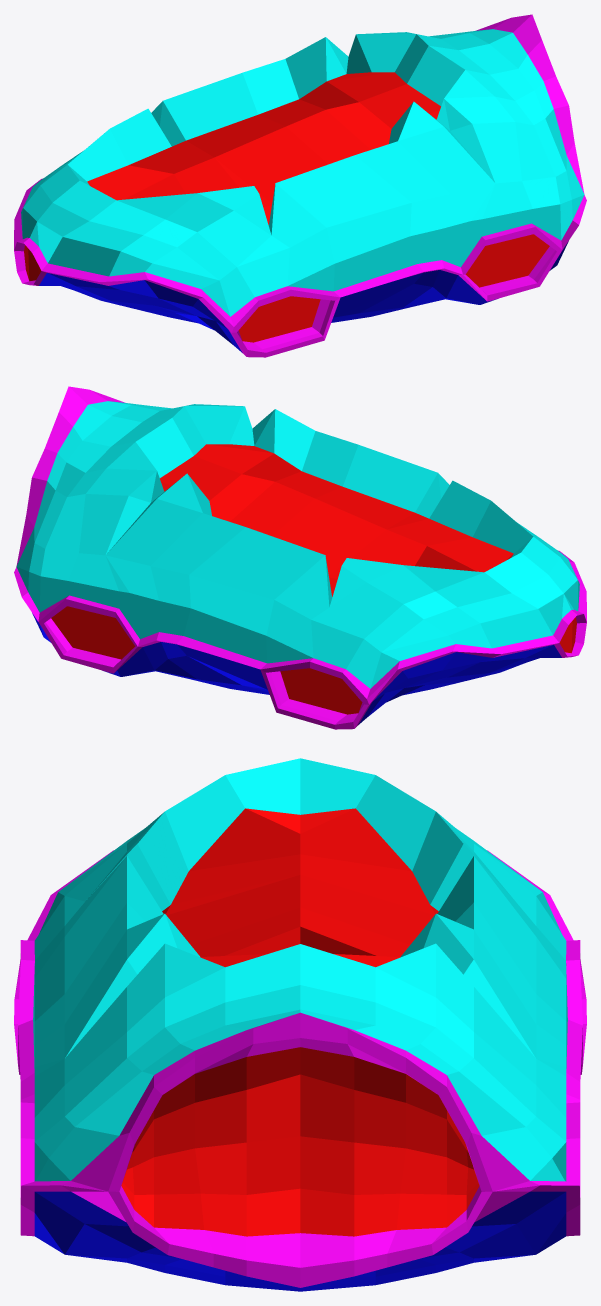
File: Mo_Tweasel_CrackedShell.fbx
The picture shows the model from 3 angles, top to bottom: view 1: azimuth 30°, elevation 25°; view 2: azimuth 150°, elevation 25°; view 3: azimuth 270°, elevation 25°; orthographic projection. The views are drawn at different scales.
Parts seen in each view (by area): view 1: Body.002; view 2: Body.002; view 3: Body.002.
Boxes of the visible parts, x1,y1,x2,y2 form: Body.002: (14,14,586,357); Body.002: (14,386,586,729); Body.002: (14,758,586,1291).
Bounding box in the file's own units: 1114 × 507 × 694.
